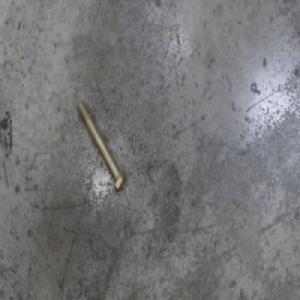Bolt: (76, 97, 127, 193)
